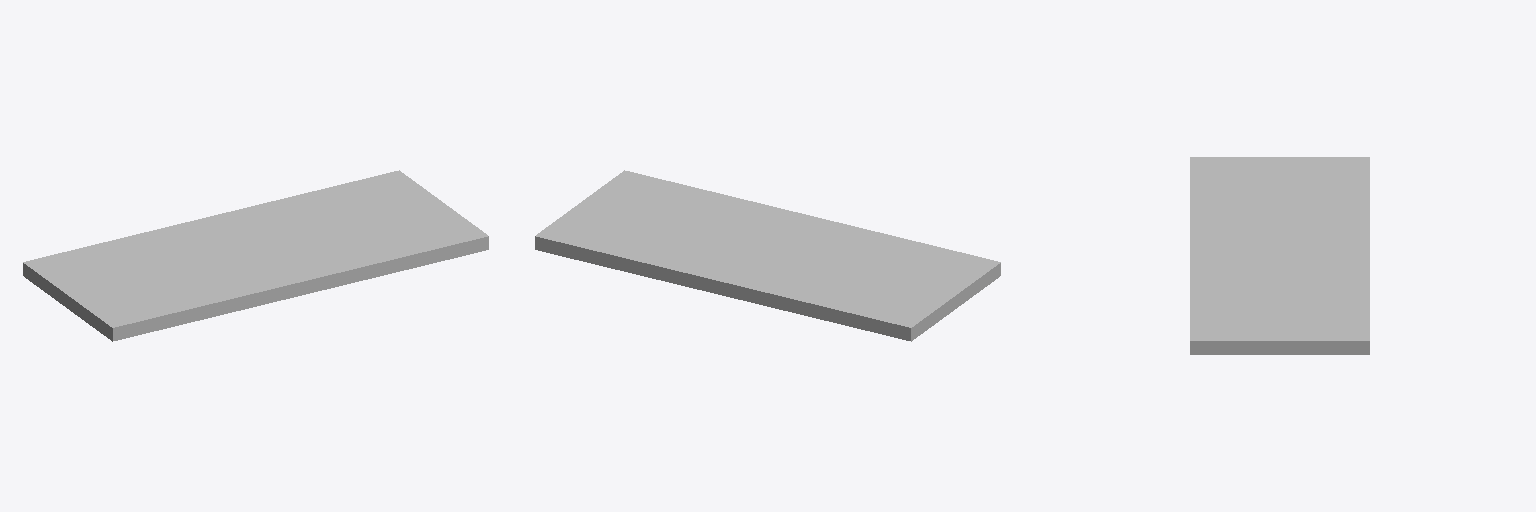
File: keyboard.obj
3 views of the same model, side by side, from view 1: azimuth 30°, elevation 25°; view 2: azimuth 150°, elevation 25°; view 3: azimuth 270°, elevation 25° (orthographic).
Parts seen in each view (by area): view 1: object 1; view 2: object 1; view 3: object 1.
Part boxes in pixels (bbox=[...]): object 1: bbox=[23, 170, 488, 341]; object 1: bbox=[535, 170, 1000, 341]; object 1: bbox=[1190, 157, 1369, 354].
Size of the model in its own units: 2.9 by 0.1 by 1.2.